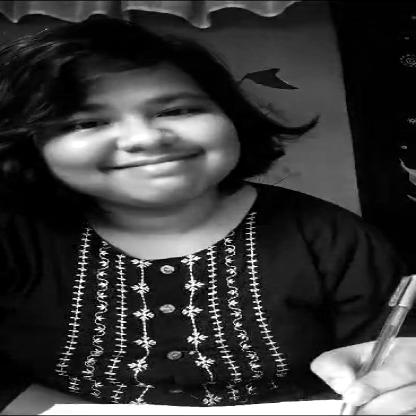Normal: (35, 46, 253, 206)
